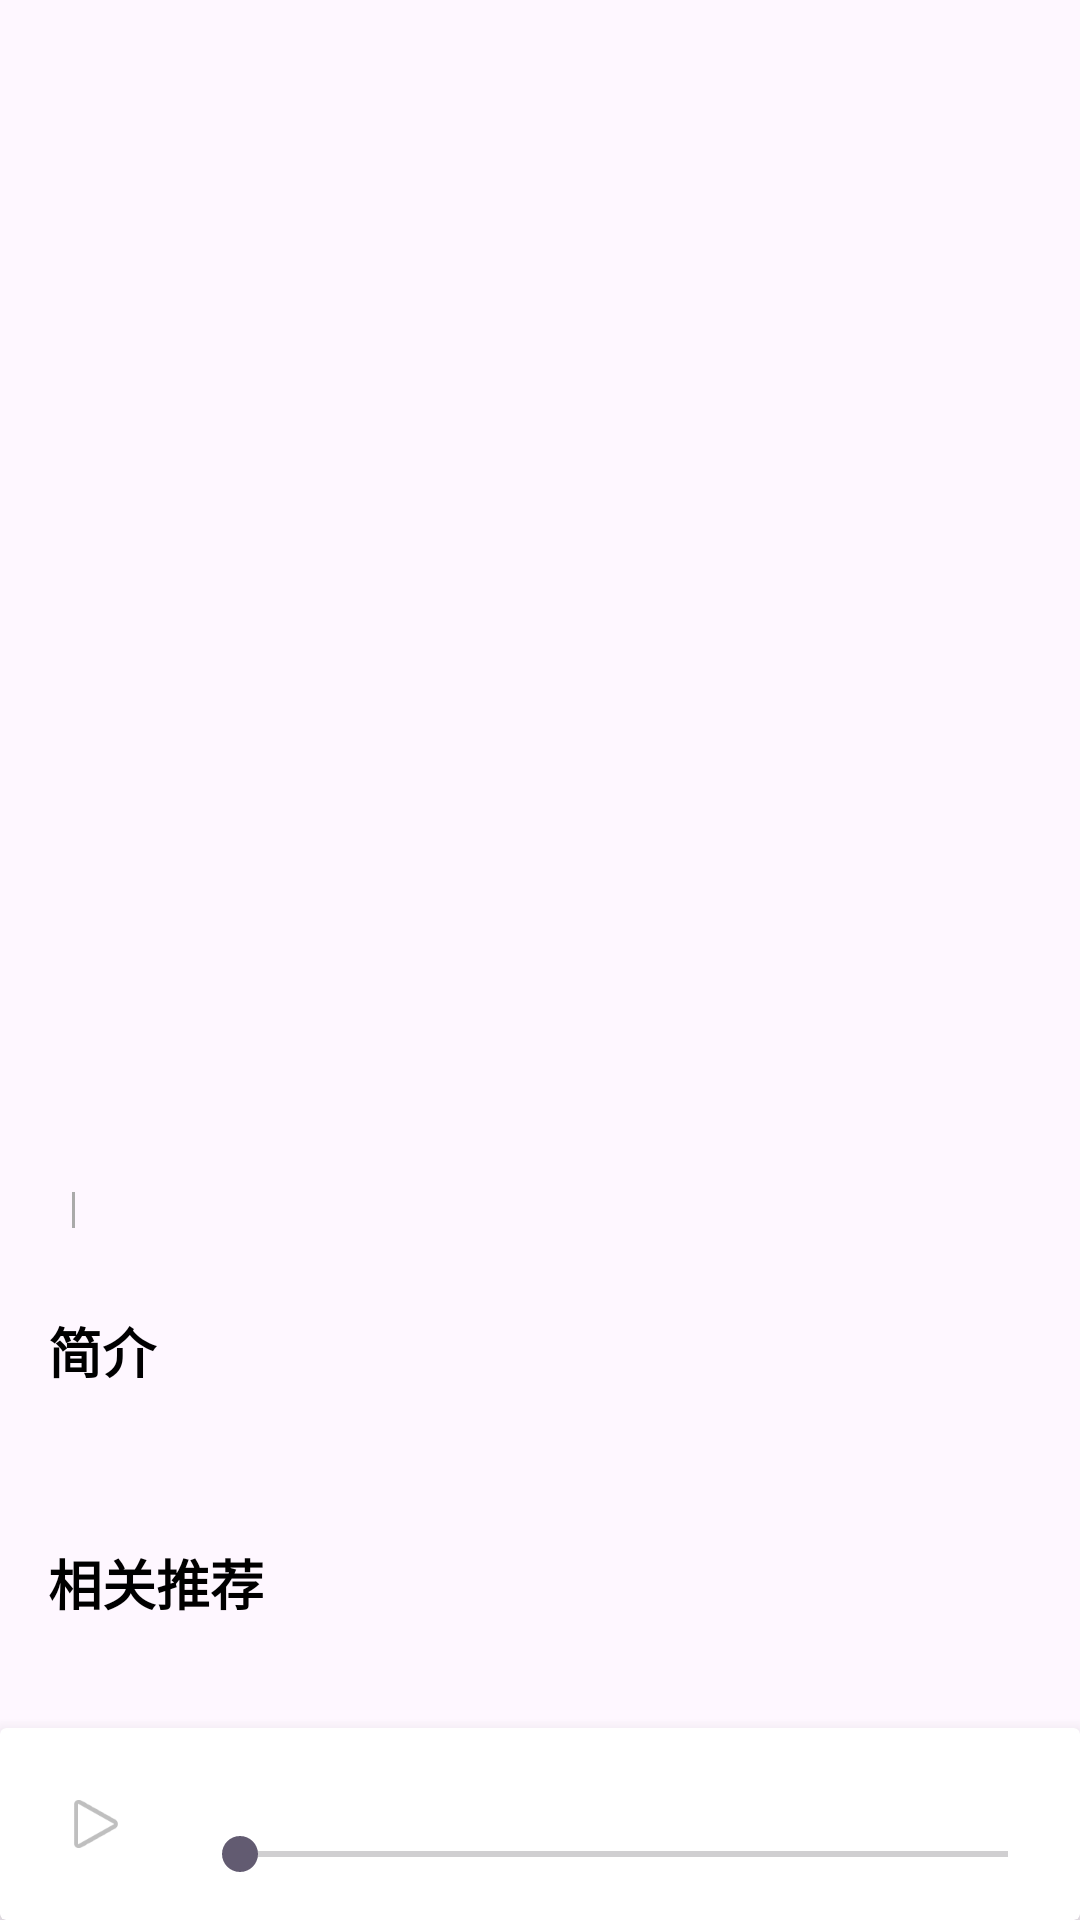

Icon click points for this 1080*1920 phone screenshot, format (x,y):
播放/暂停: (96,1824)
